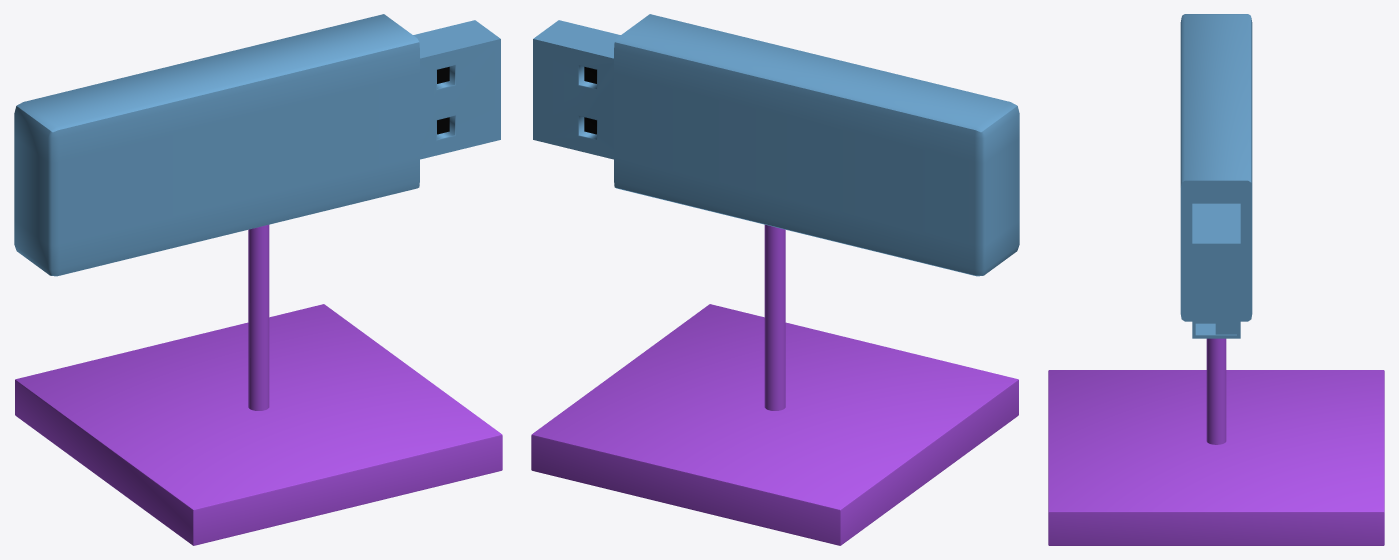
Rendered from USB_Model.fbx.
3 renders of one model, left to right at view 1: azimuth 30°, elevation 25°; view 2: azimuth 150°, elevation 25°; view 3: azimuth 270°, elevation 25°, orthographic. The views are drawn at different scales.
Visible parts, largest first — view 1: Object039; view 2: Object039; view 3: Object039.
Part boxes in pixels (box(x1,y1,x2,y2)): Object039: box(14, 14, 502, 545); Object039: box(531, 14, 1019, 545); Object039: box(1048, 14, 1384, 545).
Bounding box in the file's own units: 82.94 × 66.35 × 56.2.
